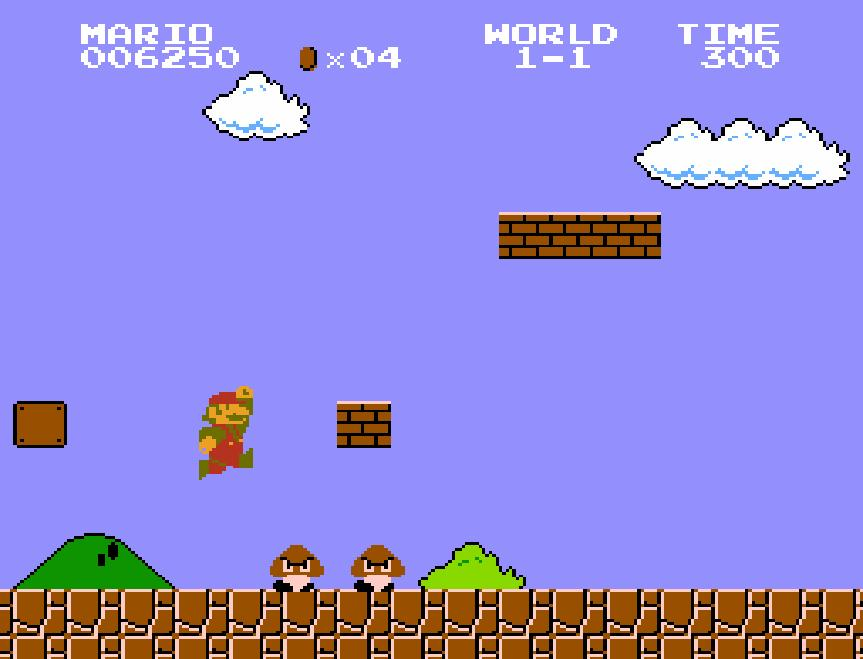big_mario: (196, 384, 254, 482)
